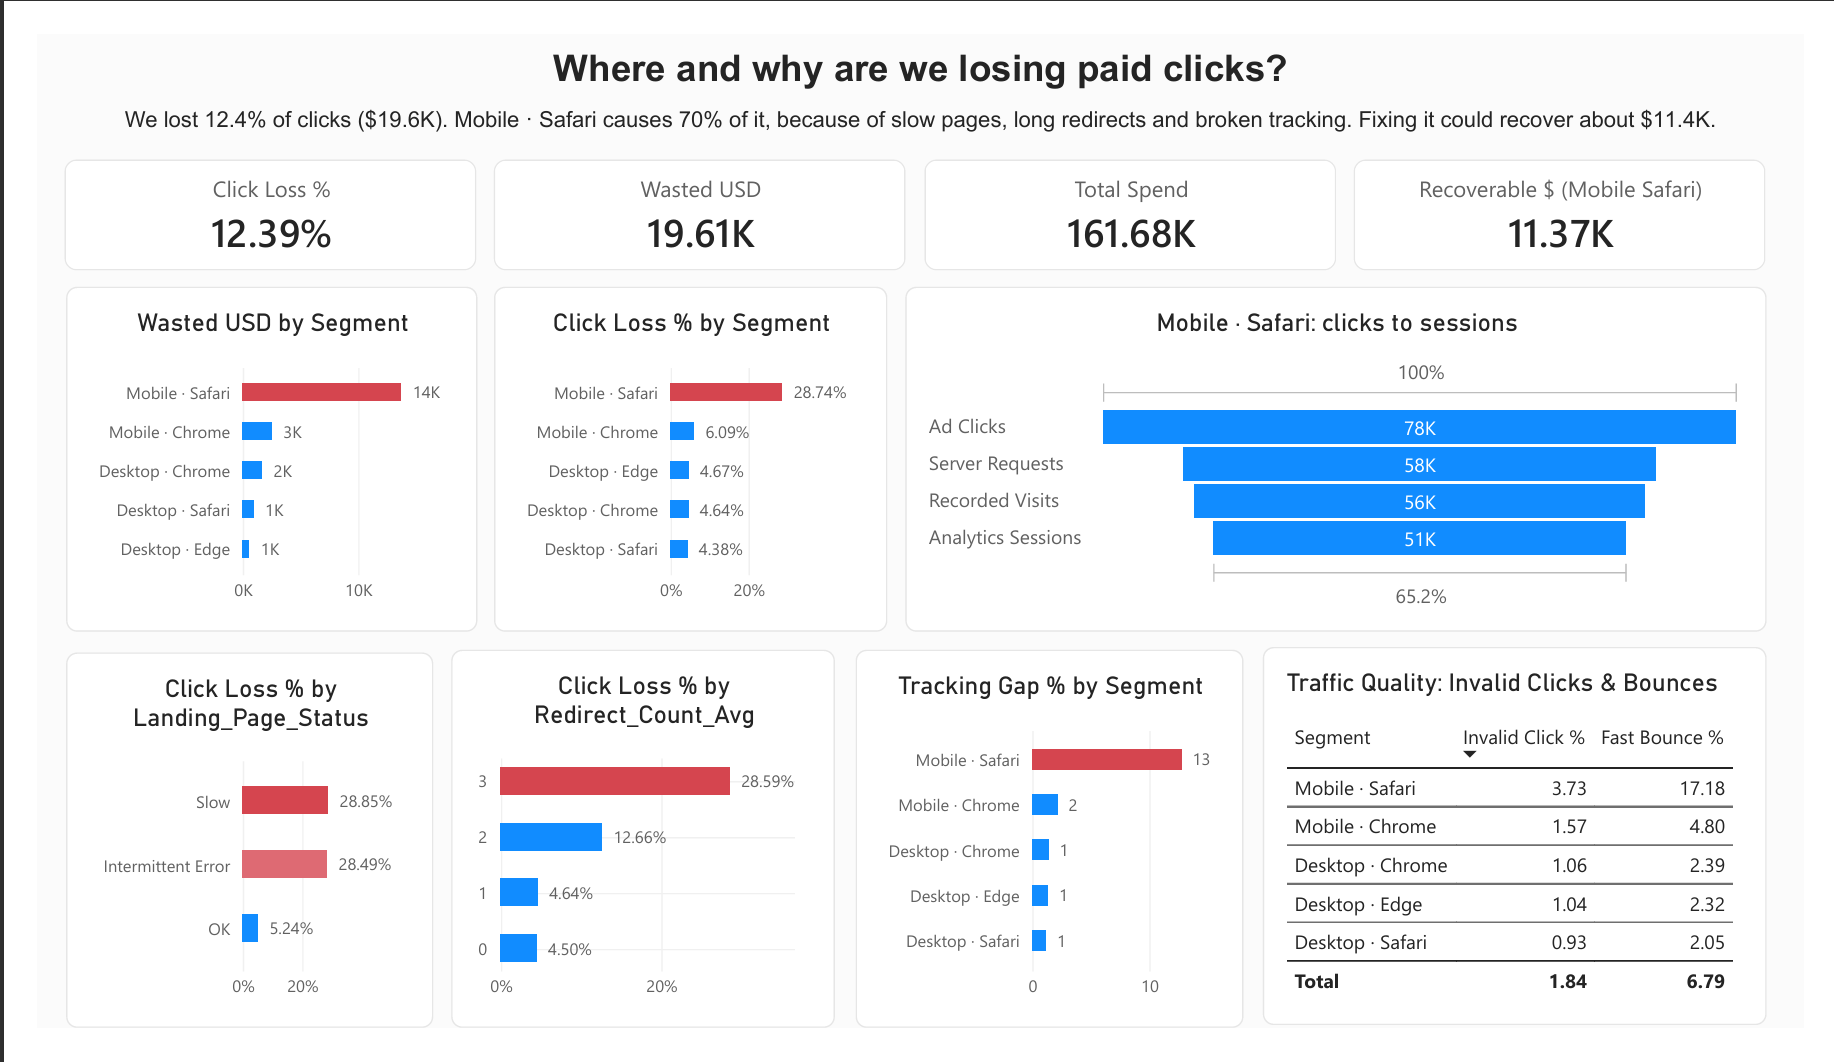

This screenshot's page, from the dashboard's own definition file:
{"tool":"powerbi","page":{"name":"Page 1","canvas":[1280,720],"ordinal":0},"visuals":[{"type":"textbox","box":[20,10,1240,40],"z":0},{"type":"textbox","box":[20,52,1240,28],"z":1000},{"type":"cardVisual","fields":{"Data":["click to landing analysis.Click Loss %"]},"box":[20,90.7,298,80],"z":2000},{"type":"cardVisual","fields":{"Data":["click to landing analysis.Wasted USD"]},"box":[331.4,90.7,298,80],"z":3000},{"type":"cardVisual","fields":{"Data":["Sum(click to landing analysis.Ad_Spend_USD)"]},"box":[642.9,90.7,298,80],"z":4000},{"type":"clusteredBarChart","title":"Wasted USD by Segment","fields":{"Category":["click to landing analysis.Segment"],"Y":["click to landing analysis.Wasted USD"]},"box":[20.8,183.3,298,250],"z":5000},{"type":"clusteredBarChart","title":"Click Loss % by Segment","fields":{"Category":["click to landing analysis.Segment"],"Y":["click to landing analysis.Click Loss %"]},"box":[331,183.3,285.4,249.5],"z":6000},{"type":"funnel","title":"Mobile · Safari: clicks to sessions","fields":{"Y":["Sum(click to landing analysis.Ad_Clicks)","Sum(click to landing analysis.Server_Requests)","Sum(click to landing analysis.Recorded_Landing_Visits)","Sum(click to landing analysis.Analytics_Sessions)"]},"box":[629.3,183.3,623.6,249.5],"z":7000},{"type":"clusteredBarChart","title":"Click Loss % by Landing_Page_Status","fields":{"Category":["click to landing analysis.Landing_Page_Status"],"Y":["click to landing analysis.Click Loss %"]},"box":[20.8,447.9,266.5,272.1],"z":8000},{"type":"clusteredBarChart","fields":{"Category":["click to landing analysis.Redirect_Count_Avg"],"Y":["click to landing analysis.Click Loss %"]},"box":[300.5,446,277.8,274],"z":9000},{"type":"clusteredBarChart","fields":{"Category":["click to landing analysis.Segment"],"Y":["click to landing analysis.Tracking Gap %"]},"box":[592.8,446,281.6,274],"z":10000},{"type":"tableEx","title":"Traffic Quality: Invalid Clicks & Bounces","fields":{"Values":["click to landing analysis.Segment","click to landing analysis.Invalid Click %","click to landing analysis.Fast Bounce %"]},"box":[888.2,444.1,364.7,274],"z":11000},{"type":"cardVisual","fields":{"Data":["click to landing analysis.Mobile Safari Quick Win"]},"box":[954.3,90.7,298,80],"z":12000}]}

Visuals, with their boxes in screenshot pixels (x1, y1, x2, y2), scaled from the page's 1280x720 canvas onto the 1834x1062 screenshot:
textbox: box(29, 15, 1805, 74)
textbox: box(29, 77, 1805, 118)
cardVisual - click to landing analysis.Click Loss %: box(29, 134, 456, 252)
cardVisual - click to landing analysis.Wasted USD: box(475, 134, 902, 252)
cardVisual - Sum(click to landing analysis.Ad_Spend_USD): box(921, 134, 1348, 252)
"Wasted USD by Segment" clusteredBarChart: box(30, 270, 457, 639)
"Click Loss % by Segment" clusteredBarChart: box(474, 270, 883, 638)
"Mobile · Safari: clicks to sessions" funnel: box(902, 270, 1795, 638)
"Click Loss % by Landing_Page_Status" clusteredBarChart: box(30, 661, 412, 1061)
clusteredBarChart - click to landing analysis.Redirect_Count_Avg x click to landing analysis.Click Loss %: box(431, 658, 829, 1061)
clusteredBarChart - click to landing analysis.Segment x click to landing analysis.Tracking Gap %: box(849, 658, 1253, 1061)
"Traffic Quality: Invalid Clicks & Bounces" tableEx: box(1273, 655, 1795, 1059)
cardVisual - click to landing analysis.Mobile Safari Quick Win: box(1367, 134, 1794, 252)
